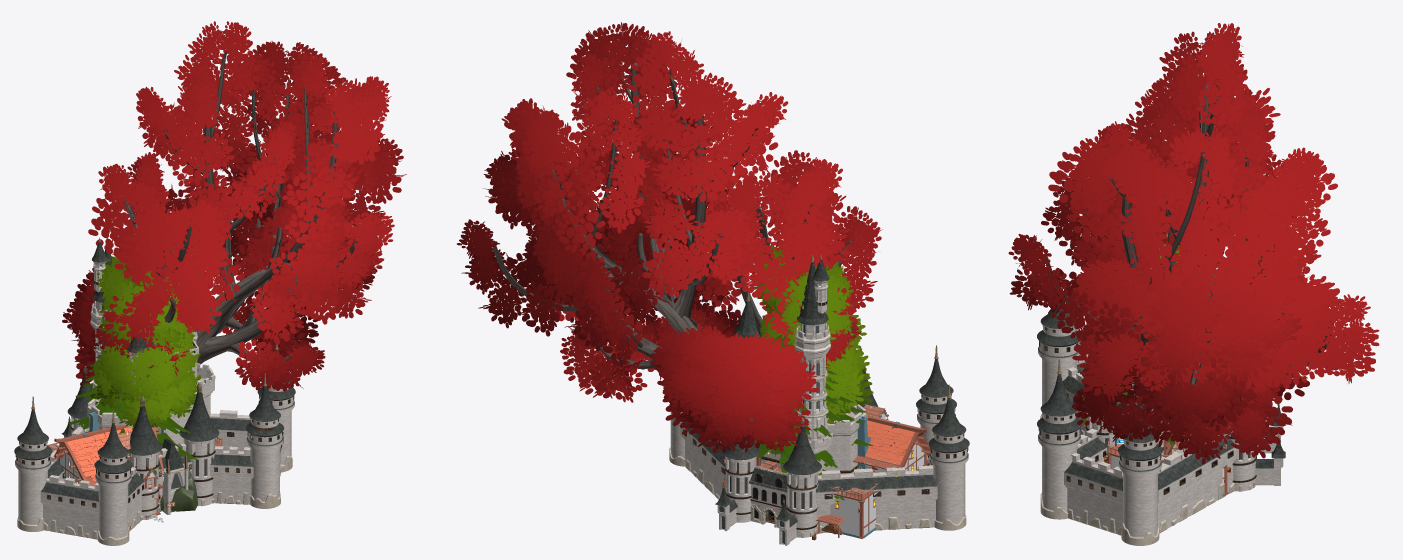
The model's file is core.glb.
3 views of the same model, side by side, from view 1: azimuth 30°, elevation 25°; view 2: azimuth 150°, elevation 25°; view 3: azimuth 270°, elevation 25° (orthographic). The views are drawn at different scales.
Parts seen in each view (by area): view 1: TwistedTree_1, object 26, object 27, CommonTree_3, CommonTree_1, object 28, CommonTree_2, object 29, CommonTree_4, house_wood_0, house_roof_0, Rock_Medium_3 (+2 smaller); view 2: TwistedTree_1, object 26, object 27, object 28, CommonTree_3, house_wood_0, object 29, house_walls_0, CommonTree_4, house_roof_0, CommonTree_1, CommonTree_2 (+2 smaller); view 3: TwistedTree_1, object 26, object 27, object 28.
Part boxes in pixels (x1,y1,x2,y2): TwistedTree_1: (62, 21, 406, 391); object 26: (14, 344, 295, 545); object 27: (40, 410, 283, 539); CommonTree_3: (97, 265, 200, 405); CommonTree_1: (90, 330, 202, 427); object 28: (61, 237, 197, 514); CommonTree_2: (93, 317, 201, 427); object 29: (87, 328, 215, 444); CommonTree_4: (100, 250, 187, 333); house_wood_0: (53, 425, 222, 520); house_roof_0: (59, 426, 133, 481); Rock_Medium_3: (160, 443, 197, 511); TwistedTree_1: (457, 22, 882, 452); object 26: (669, 345, 969, 537); object 27: (680, 422, 937, 533); object 28: (715, 255, 853, 545); CommonTree_3: (762, 249, 866, 410); house_wood_0: (722, 407, 930, 538); object 29: (761, 404, 866, 473); house_walls_0: (756, 406, 924, 535); CommonTree_4: (754, 246, 853, 361); house_roof_0: (865, 420, 914, 464); CommonTree_1: (758, 315, 873, 423); CommonTree_2: (759, 313, 872, 420); TwistedTree_1: (1008, 23, 1379, 464); object 26: (1037, 280, 1256, 545); object 27: (1062, 354, 1237, 535); object 28: (1086, 186, 1285, 485).
Bounding box in the file's own units: 16.92 × 16.84 × 11.55.
Materials: 42 (22 with a texture image).
